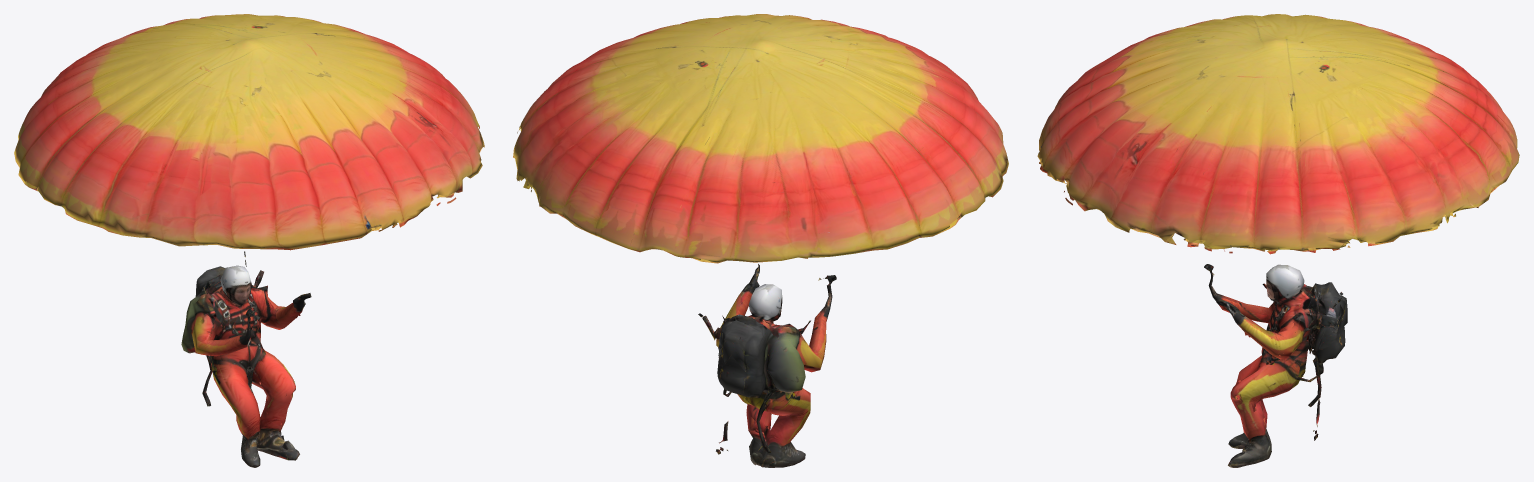
File: para.glb
The picture shows the model from 3 angles, left to right: view 1: azimuth 30°, elevation 25°; view 2: azimuth 150°, elevation 25°; view 3: azimuth 270°, elevation 25°; orthographic projection. The views are drawn at different scales.
Size of the model in its own units: 1.95 by 1.85 by 1.94.
Materials: 1 (1 with a texture image).
